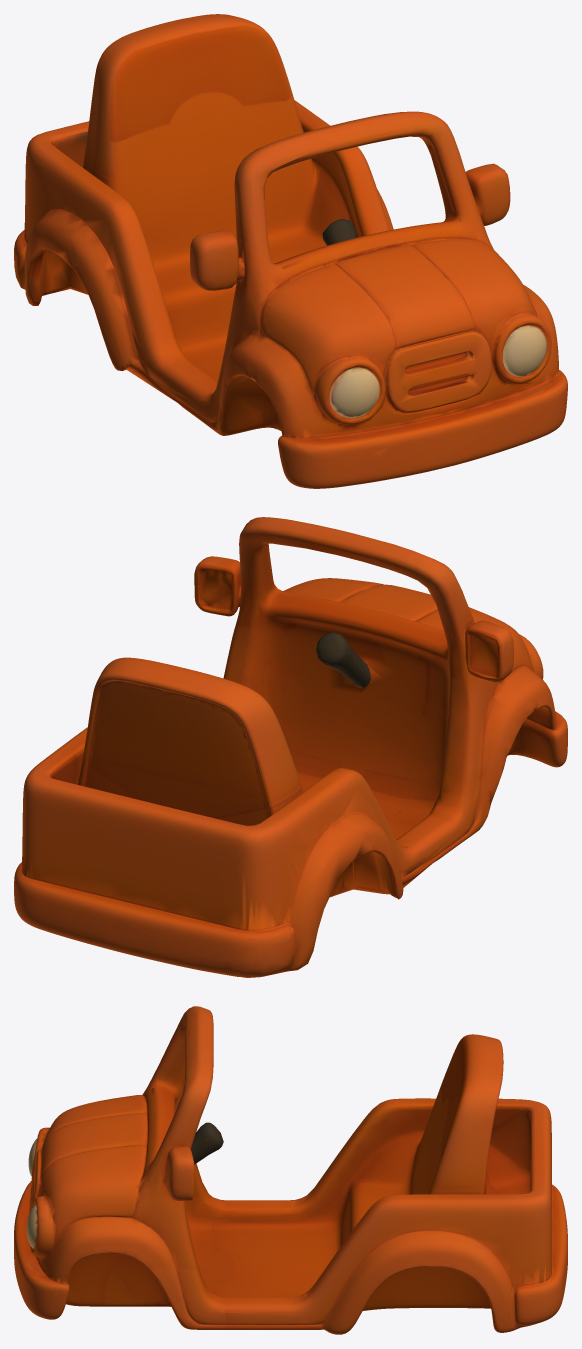
The model's file is car-body.fbx.
3 views of the same model, one above another, from view 1: azimuth 30°, elevation 25°; view 2: azimuth 150°, elevation 25°; view 3: azimuth 270°, elevation 25° (orthographic). The views are drawn at different scales.
Visible parts, largest first — view 1: texture_pbr_v128.001; view 2: texture_pbr_v128.001; view 3: texture_pbr_v128.001.
Part boxes in pixels (x1,y1,x2,y2): texture_pbr_v128.001: (14,14,567,488); texture_pbr_v128.001: (14,517,567,977); texture_pbr_v128.001: (14,1006,567,1334).
Size of the model in its own units: 0.5059 by 0.4304 by 0.9008.
